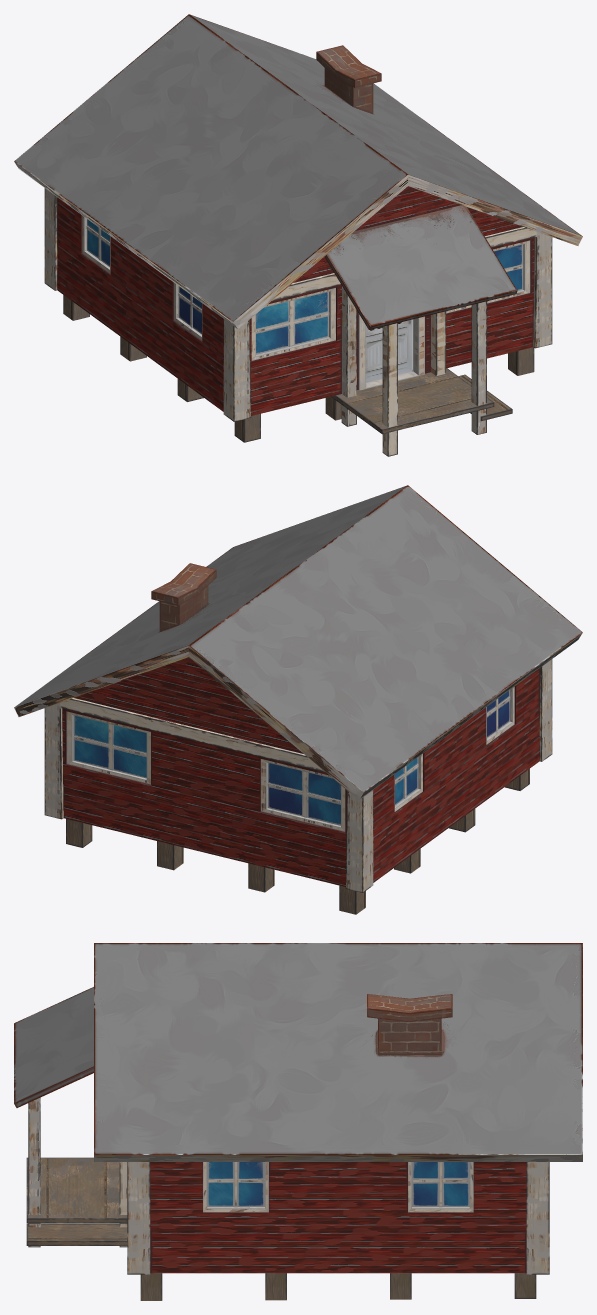
The model's file is Villagehut-01.glb.
3 views of the same model, one above another, from view 1: azimuth 30°, elevation 25°; view 2: azimuth 150°, elevation 25°; view 3: azimuth 270°, elevation 25° (orthographic). The views are drawn at different scales.
Visible parts, largest first — view 1: roof-01, body, roof-01.001, lamperia-01, support, window-03, step-02, doors, legars, chiemney, window-02; view 2: roof-01, body, lamperia-01, window-03, legars, chiemney, window-02; view 3: roof-01, body, roof-01.001, window-02, step-02, lamperia-01, chiemney, legars, step-01, support.
Part boxes in pixels (box(x1,y1,x2,y2)): roof-01: box(14, 14, 582, 328); body: box(57, 186, 534, 415); roof-01.001: box(324, 205, 517, 329); lamperia-01: box(44, 188, 552, 421); support: box(341, 286, 486, 456); window-03: box(251, 240, 530, 360); step-02: box(331, 368, 494, 434); doors: box(358, 313, 424, 390); legars: box(63, 295, 534, 442); chiemney: box(316, 45, 381, 113); window-02: box(82, 215, 202, 340); roof-01: box(14, 485, 582, 799); body: box(62, 657, 539, 886); lamperia-01: box(44, 659, 552, 892); window-03: box(66, 711, 345, 831); legars: box(66, 768, 529, 914); chiemney: box(151, 563, 216, 631); window-02: box(394, 687, 514, 811); roof-01: box(94, 943, 582, 1161); body: box(150, 1162, 526, 1273); roof-01.001: box(14, 987, 93, 1107); window-02: box(203, 1162, 473, 1212); step-02: box(26, 1157, 127, 1223); lamperia-01: box(127, 1162, 549, 1274); chiemney: box(367, 994, 452, 1054); legars: box(140, 1273, 536, 1300); step-01: box(26, 1224, 127, 1245); support: box(28, 1097, 127, 1247).
Size of what is drawn, in the model's own units: 6.24 by 4.24 by 7.89.
4 materials, 4 textured.
